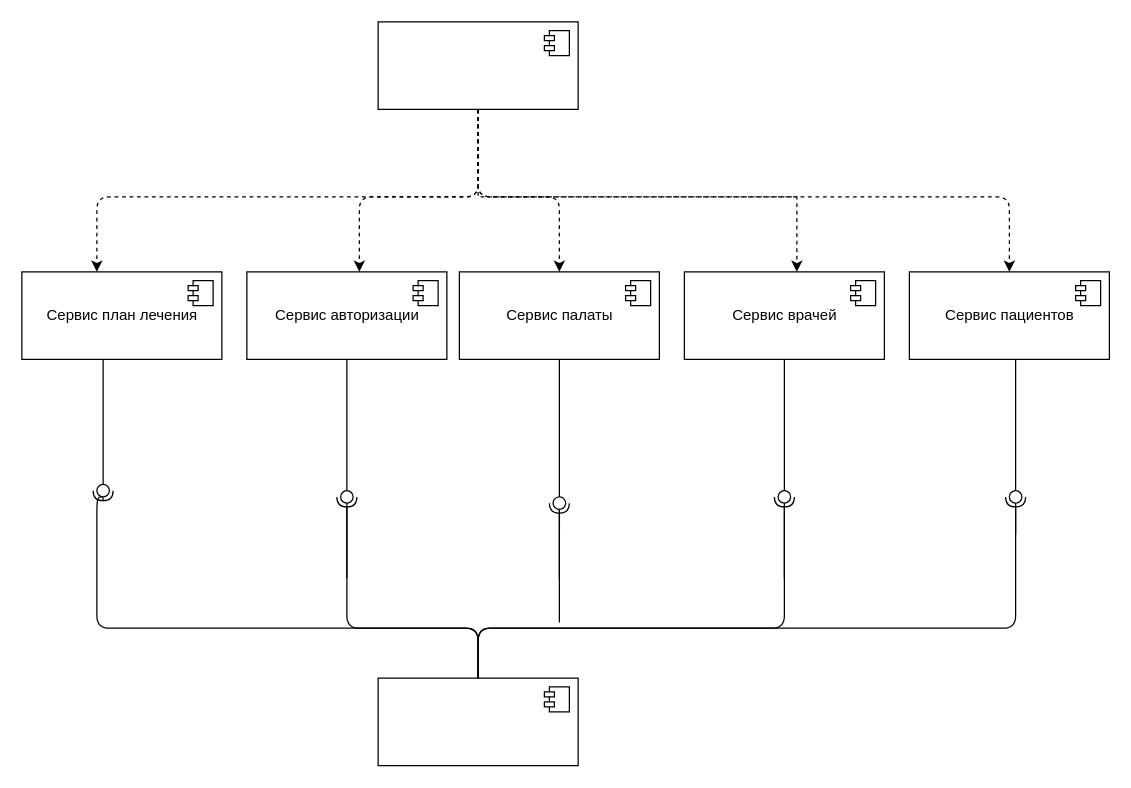
Some shapes in this 1131 by 788 pixel diagram are drawn without their labels. The centre of each missing label's shape, as x and y in pixels:
"Компонент доступа к данным" belongs at [477,721].
"Компонент транспортного слоя" belongs at [477,65].
